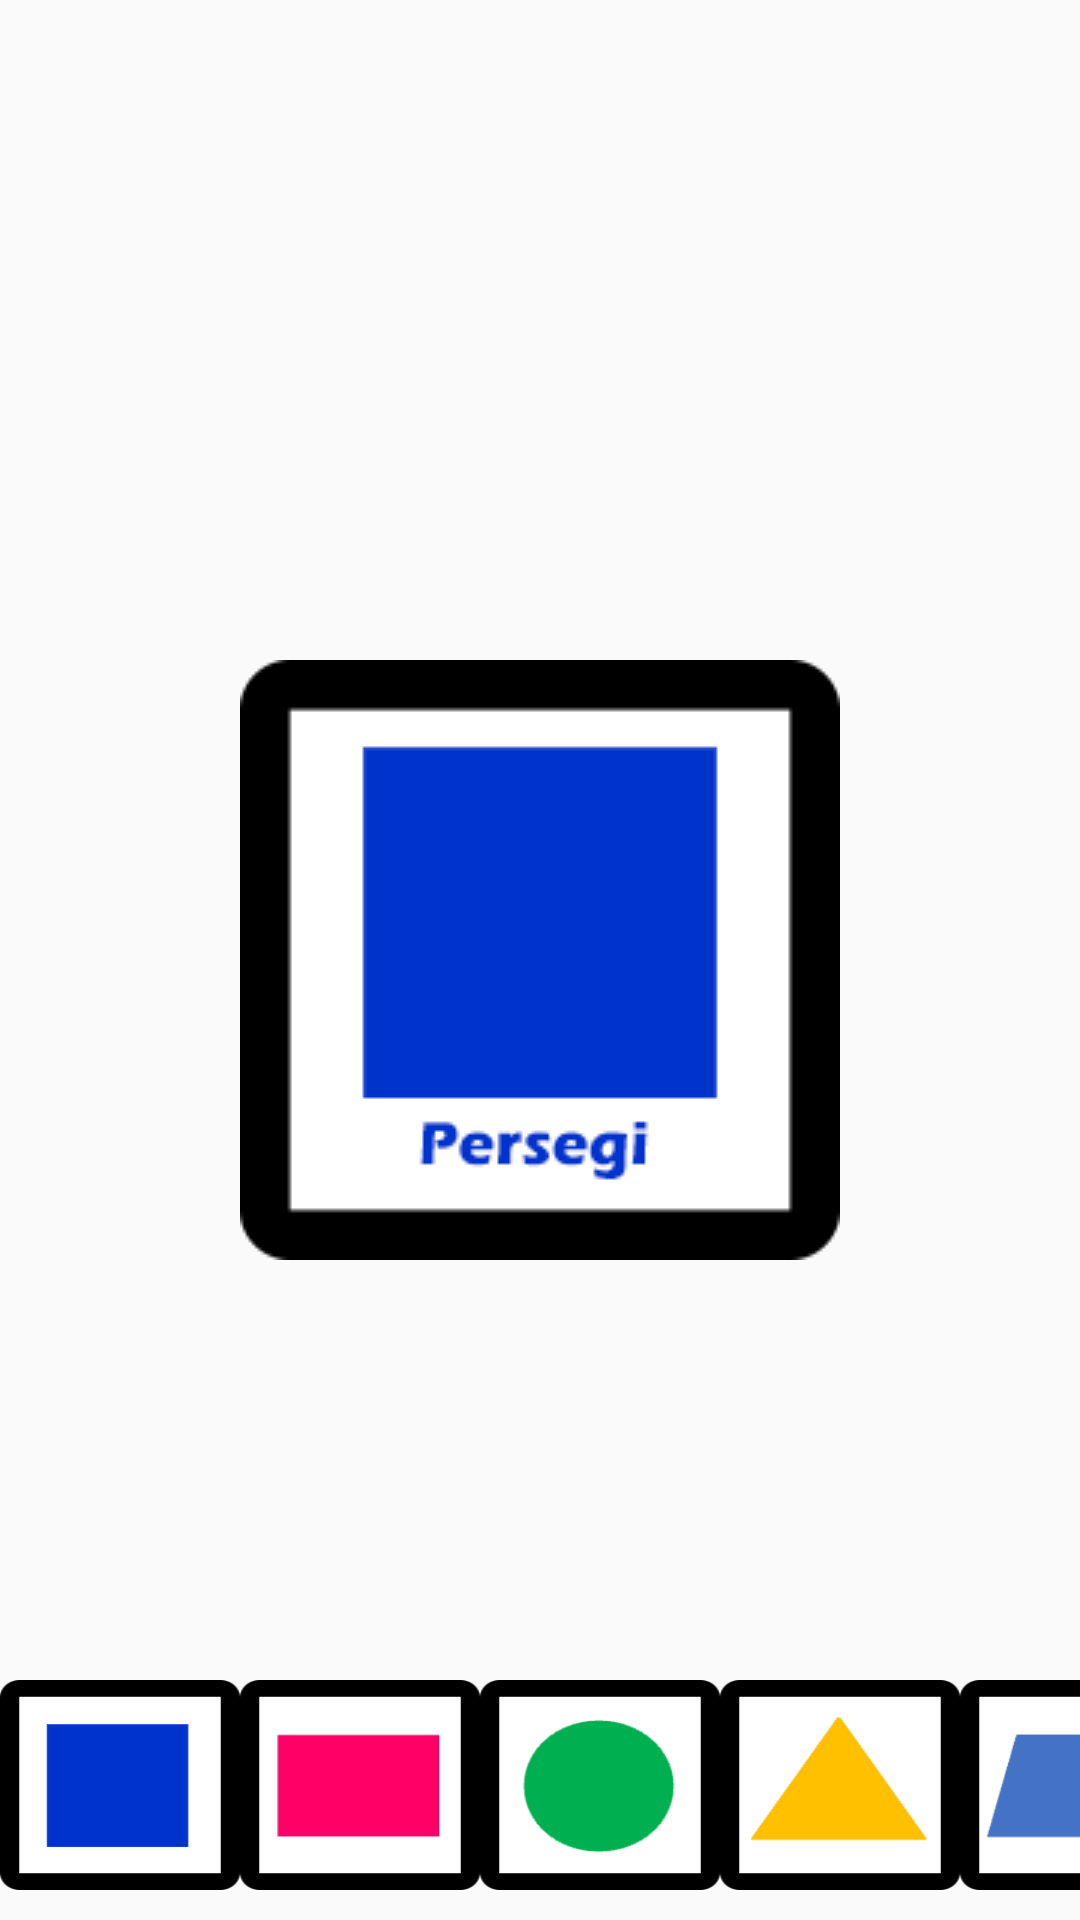

Point at icon controls on the screen. Image size 1080px×1920px, points as (x=x, y=y).
lingkaran: (x=600, y=1785)
persegi: (x=117, y=1785)
persegipanjang: (x=360, y=1785)
segitiga: (x=840, y=1785)
